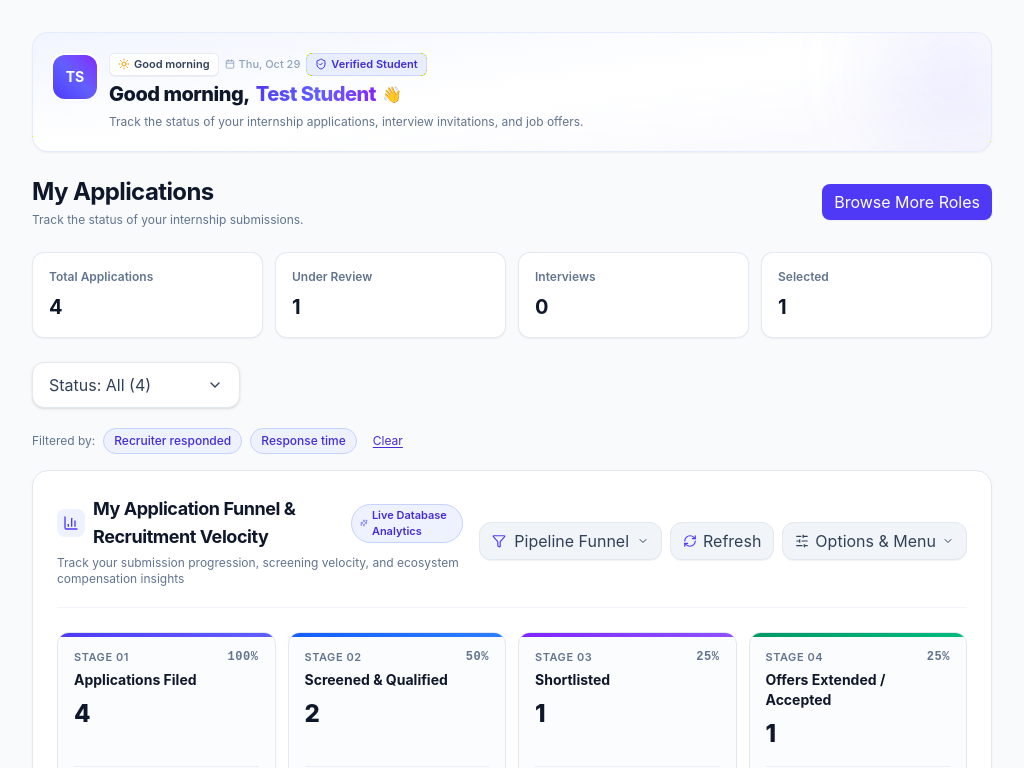
Scenario: student analytics destination filters › filters and sorts response time records, then clears URL filters
This screenshot has width=1024, height=768.
What coordinates should you click on to do the following:
click the button "Clear"
I would click on:
 (388, 441)
Its box is [365,429,411,453].
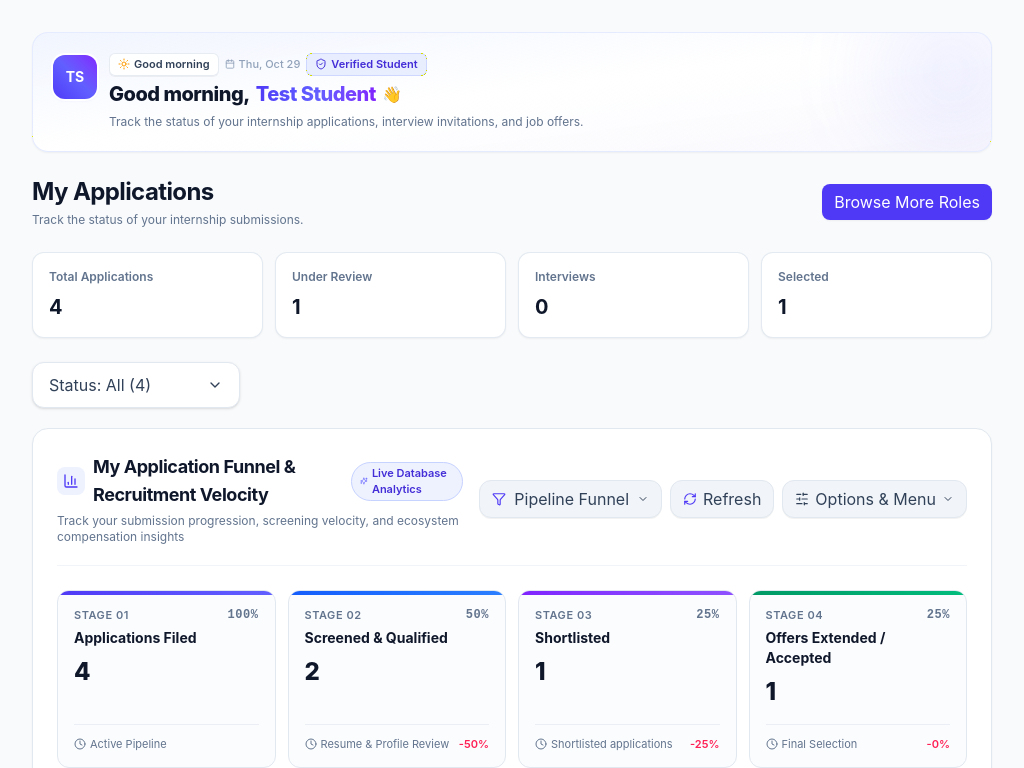
Now the text "Filtered by:" is gone
